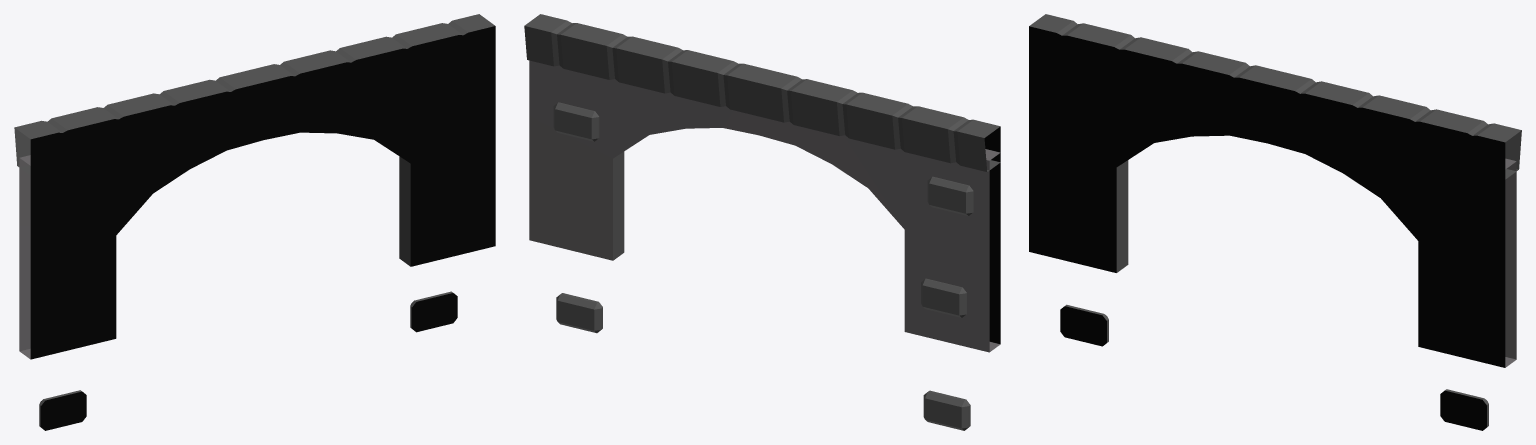
Rendered from Wall_DoubleDoorway.fbx.
3 renders of one model, left to right at view 1: azimuth 30°, elevation 25°; view 2: azimuth 150°, elevation 25°; view 3: azimuth 330°, elevation 25°, orthographic. The views are drawn at different scales.
Visible parts, largest first — view 1: Wall_DoubleDoorway; view 2: Wall_DoubleDoorway; view 3: Wall_DoubleDoorway.
Boxes of the visible parts, x1=… form: Wall_DoubleDoorway: x1=14, y1=14, x2=495, y2=430; Wall_DoubleDoorway: x1=524, y1=14, x2=1000, y2=430; Wall_DoubleDoorway: x1=1029, y1=14, x2=1521, y2=430.
Bounding box in the file's own units: 400 × 251 × 24.35.
